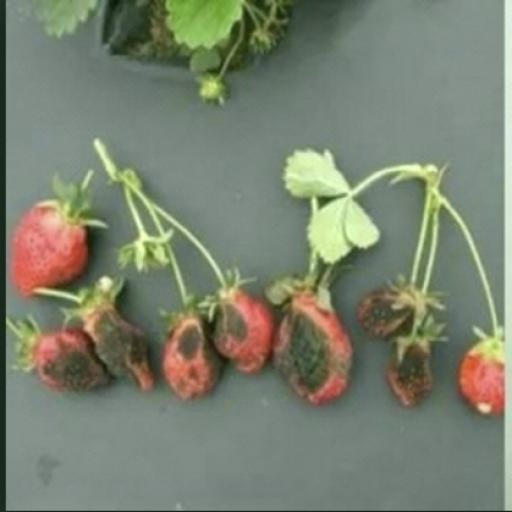Anthracnose Fruit Rot: (156, 303, 236, 398), (360, 308, 427, 389), (292, 320, 351, 399), (400, 332, 473, 393), (98, 284, 156, 343), (76, 340, 126, 407), (260, 303, 298, 356)
